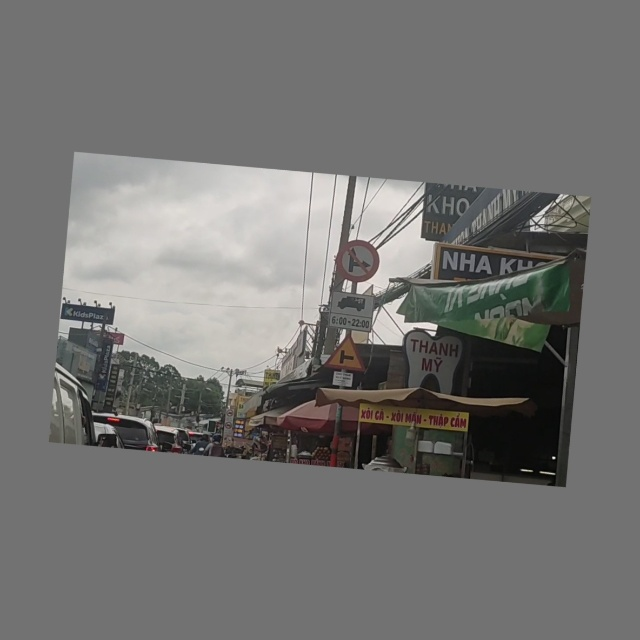P.139: (330, 233, 387, 290)
S.505a*Xe tai: (322, 286, 381, 338)
W.205b: (319, 327, 376, 378)
